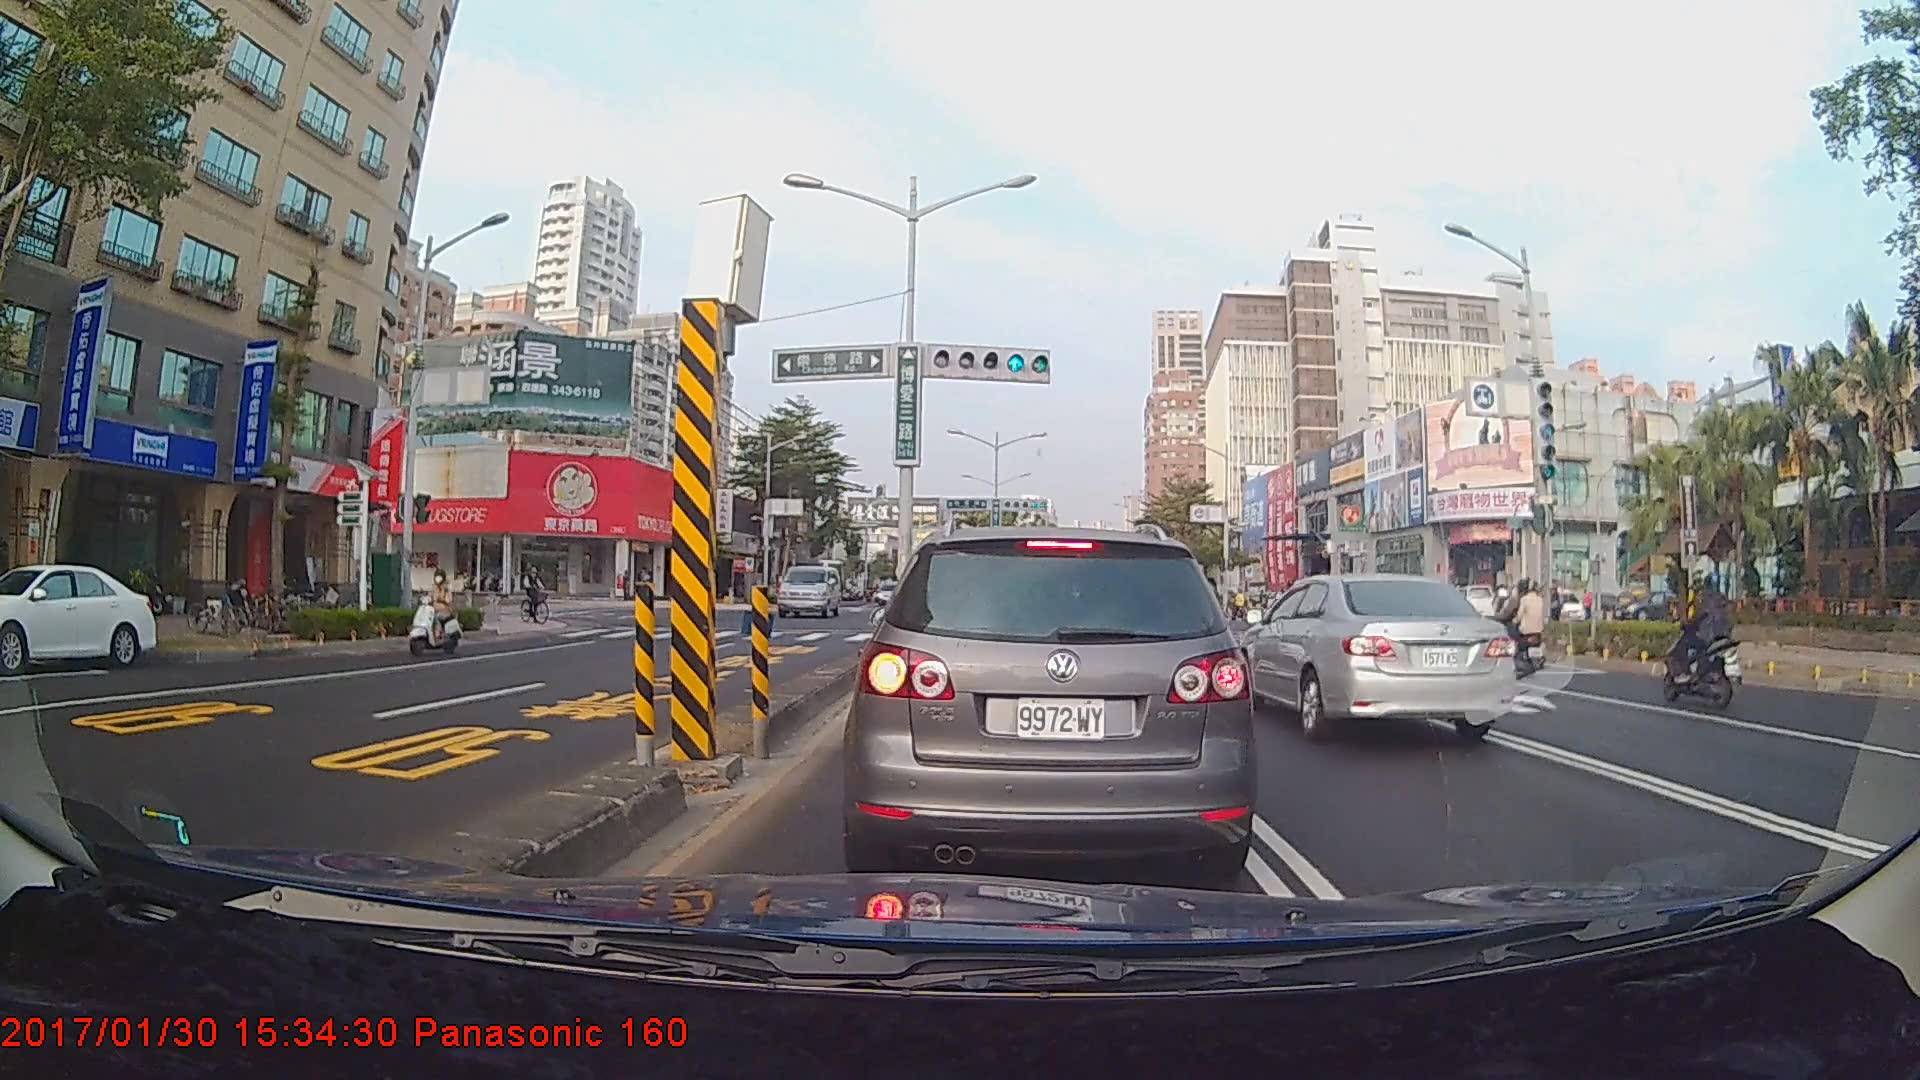rider: (1664, 570, 1748, 708), (405, 565, 474, 668), (1505, 575, 1551, 689), (518, 559, 561, 629)
vehicle: (855, 528, 1246, 876), (1234, 570, 1520, 745), (0, 561, 157, 671), (777, 563, 840, 620)
